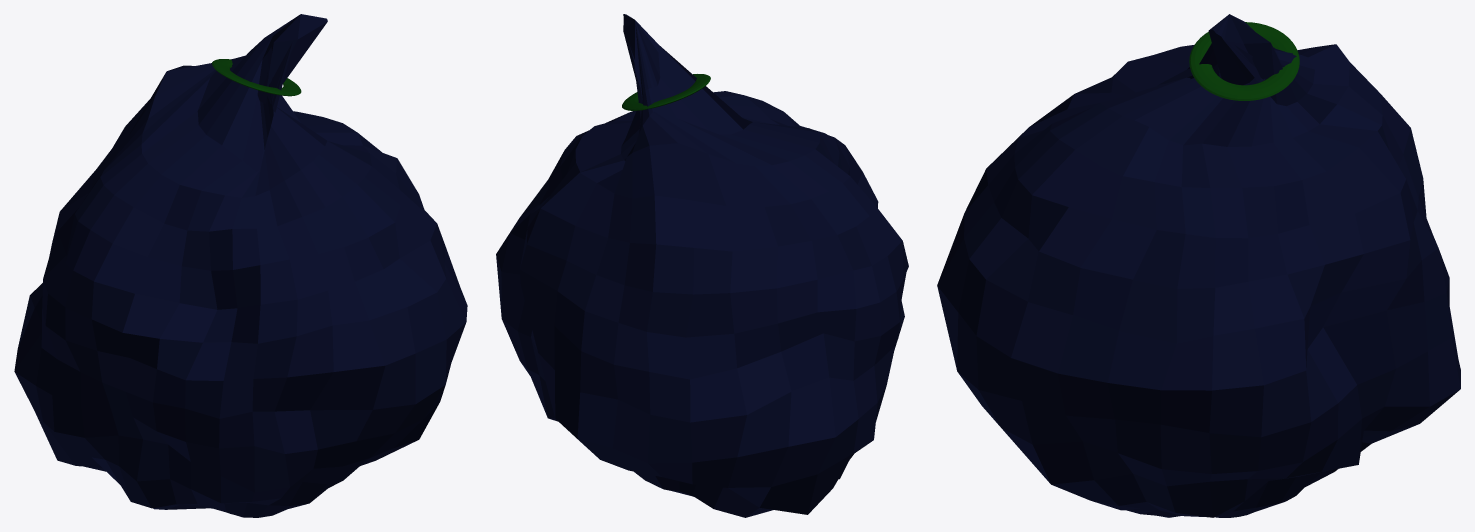
File: SacoLixo3.fbx
3 views of the same model, side by side, from view 1: azimuth 30°, elevation 25°; view 2: azimuth 150°, elevation 25°; view 3: azimuth 270°, elevation 25° (orthographic). The views are drawn at different scales.
Visible parts, largest first — view 1: Sphere, Torus; view 2: Sphere, Torus; view 3: Sphere, Torus.
Boxes of the visible parts, x1,y1,x2,y2 form: Sphere: [14, 14, 467, 517]; Torus: [212, 59, 301, 96]; Sphere: [496, 14, 908, 517]; Torus: [622, 74, 710, 110]; Sphere: [937, 14, 1460, 517]; Torus: [1189, 22, 1299, 100].
Size of the model in its own units: 246 by 285 by 249.
Materials: 2 (1 with a texture image).
